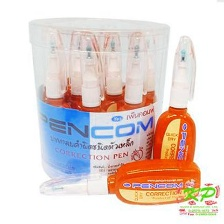correction_fluid: (149, 32, 202, 193), (35, 157, 203, 207), (70, 30, 112, 176), (111, 30, 151, 173), (90, 27, 129, 173), (38, 24, 73, 175)
plastic_box: (22, 15, 173, 189)
